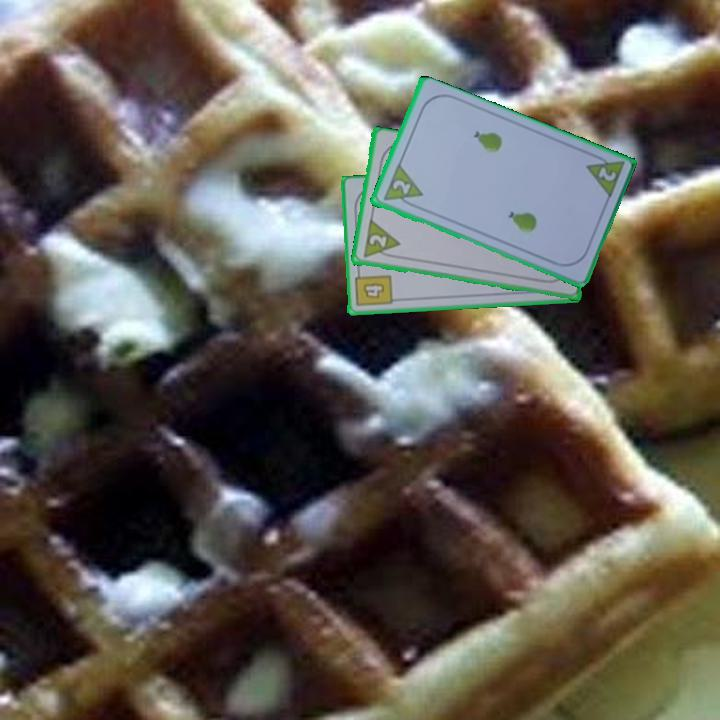2p: (359, 217, 403, 261), (388, 176, 413, 197), (594, 163, 619, 184)
4b: (352, 266, 395, 310)
